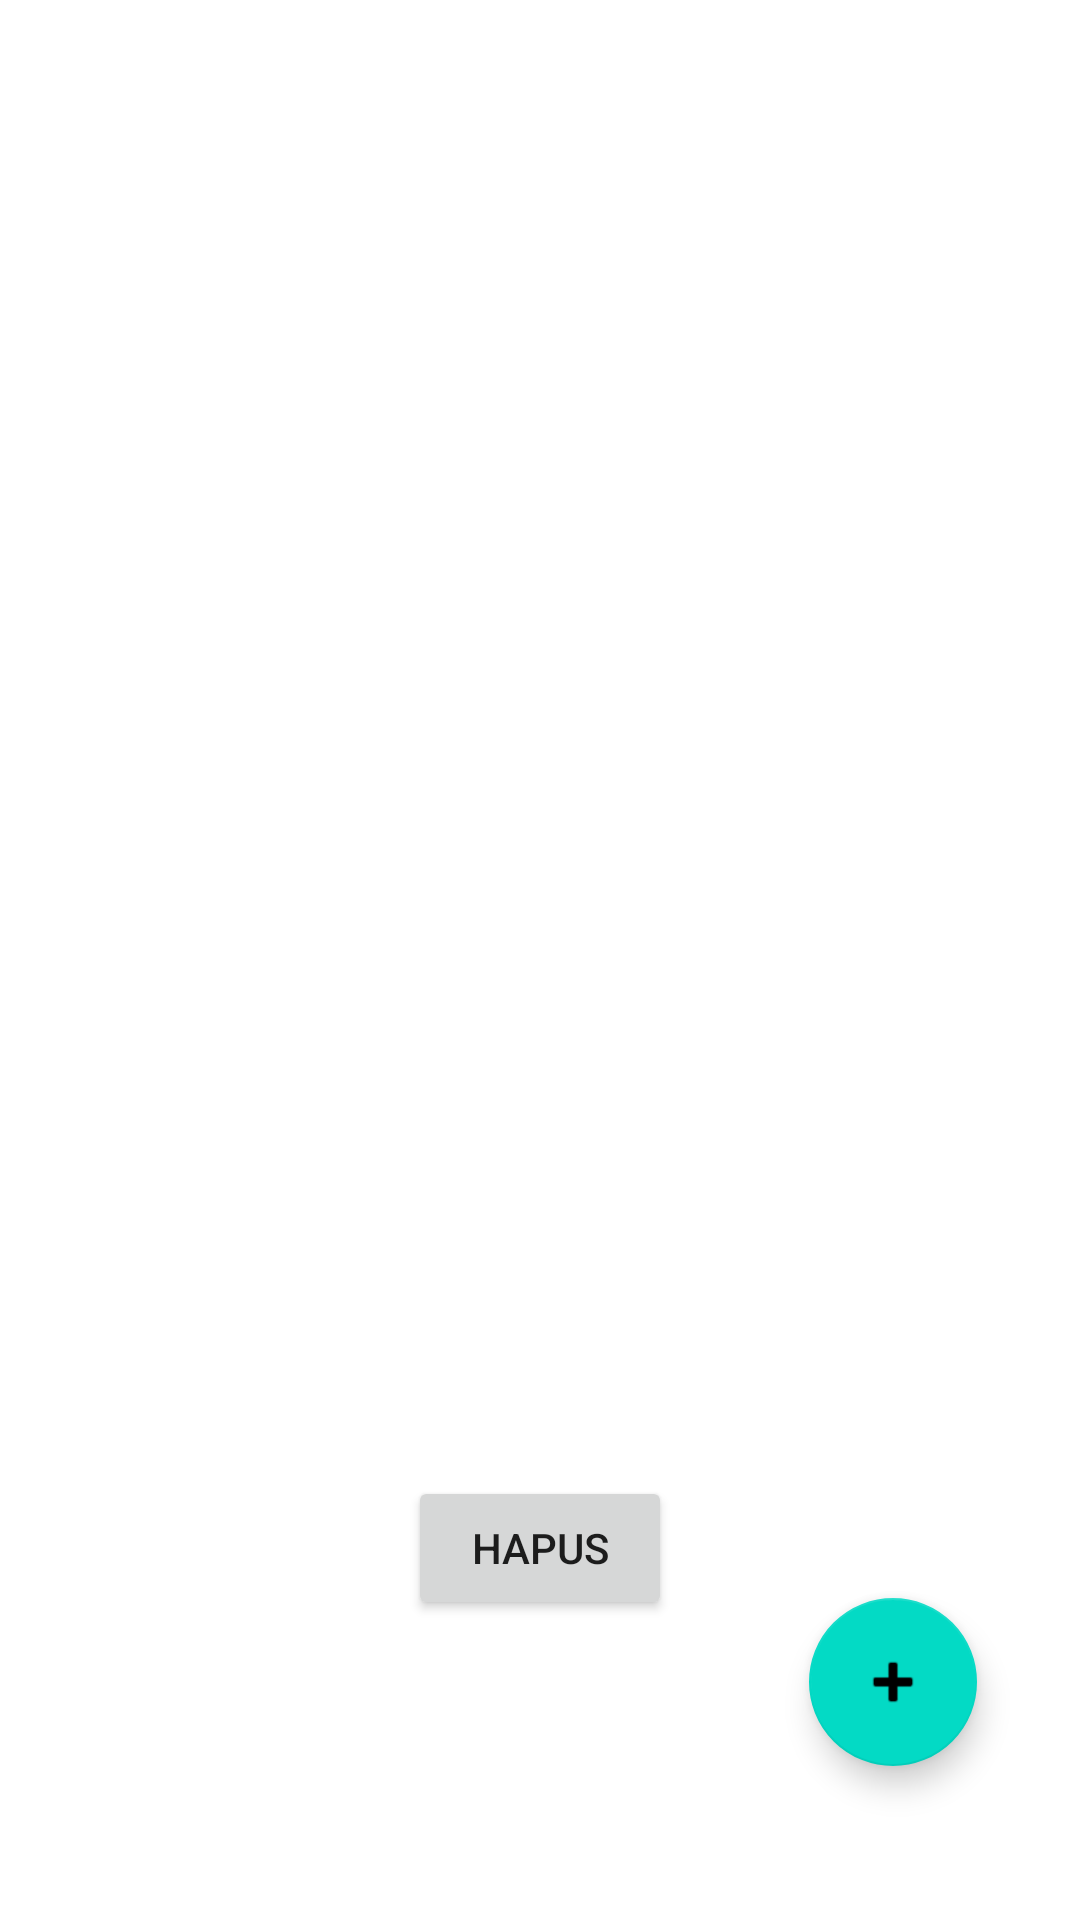

Screen size 1080 × 1920. Icon name, then its center in pixels as (x,y):
add: (893,1682)
